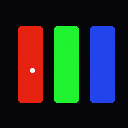0 point: (30, 68, 34, 72)
